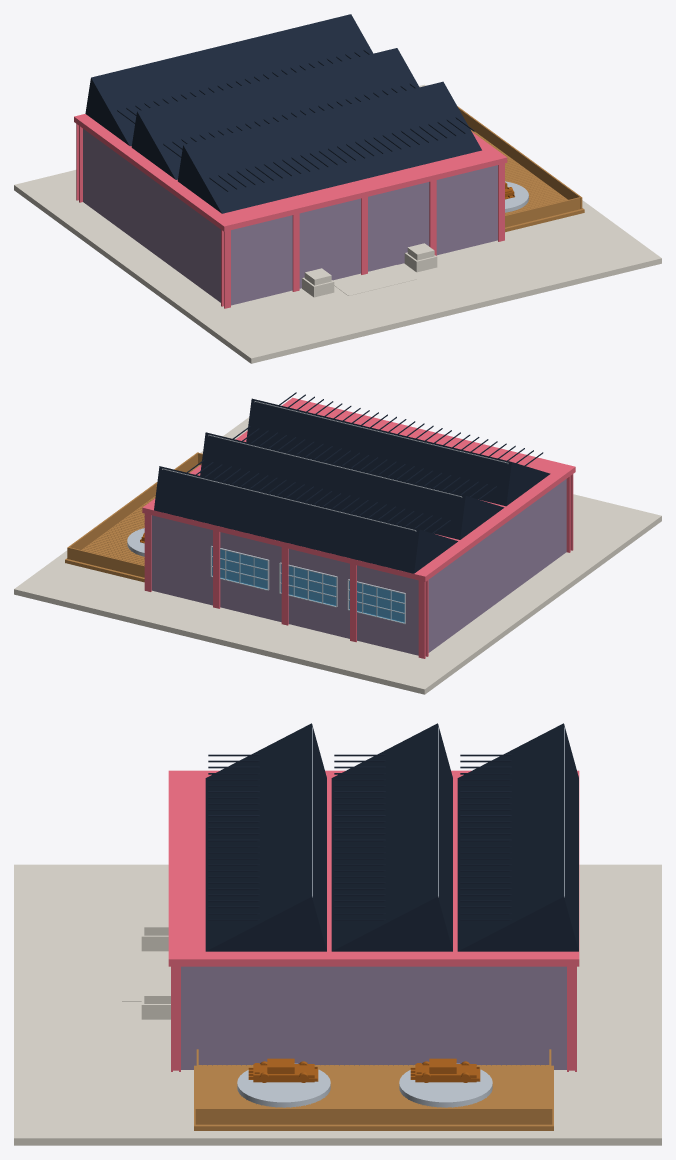
File: hq_04_design_l1.glb
3 views of the same model, one above another, from view 1: azimuth 30°, elevation 25°; view 2: azimuth 150°, elevation 25°; view 3: azimuth 270°, elevation 25° (orthographic). The views are drawn at different scales.
Visible parts, largest first — view 1: GEO_Sawtooth_Roof_Slopes, GEO_Plinth_Foundation, GEO_Design_Studio_Brick_Hall, GEO_Studio_Structural_IBeams, GEO_Outdoor_Review_Terrace_Deck, GEO_Studio_Entrance_Steps; view 2: GEO_Sawtooth_Roof_Slopes, GEO_Design_Studio_Brick_Hall, GEO_Plinth_Foundation, GEO_Studio_Structural_IBeams, GEO_Outdoor_Review_Terrace_Deck, GEO_Studio_Ribbon_Glass, GEO_Studio_Window_Frames, GEO_Sawtooth_Window_Mullions; view 3: GEO_Sawtooth_Roof_Slopes, GEO_Plinth_Foundation, GEO_Design_Studio_Brick_Hall, GEO_Studio_Structural_IBeams, GEO_Outdoor_Review_Terrace_Deck, GEO_Clay_Turntables_Pedestals, GEO_Studio_Entrance_Steps, GEO_1_to_4_Clay_Styling_Bucks.
Part boxes in pixels (x1,y1,x2,y2): GEO_Sawtooth_Roof_Slopes: [85, 14, 481, 213]; GEO_Plinth_Foundation: [14, 84, 661, 363]; GEO_Design_Studio_Brick_Hall: [83, 129, 497, 305]; GEO_Studio_Structural_IBeams: [74, 114, 507, 308]; GEO_Outdoor_Review_Terrace_Deck: [457, 106, 584, 232]; GEO_Studio_Entrance_Steps: [302, 243, 437, 297]; GEO_Sawtooth_Roof_Slopes: [154, 392, 550, 573]; GEO_Design_Studio_Brick_Hall: [151, 479, 566, 655]; GEO_Plinth_Foundation: [14, 417, 661, 694]; GEO_Studio_Structural_IBeams: [142, 397, 575, 658]; GEO_Outdoor_Review_Terrace_Deck: [65, 452, 202, 582]; GEO_Studio_Ribbon_Glass: [212, 547, 404, 622]; GEO_Studio_Window_Frames: [210, 546, 405, 624]; GEO_Sawtooth_Window_Mullions: [162, 401, 508, 531]; GEO_Sawtooth_Roof_Slopes: [205, 723, 578, 951]; GEO_Plinth_Foundation: [14, 864, 661, 1145]; GEO_Design_Studio_Brick_Hall: [181, 966, 566, 1069]; GEO_Studio_Structural_IBeams: [168, 770, 579, 1071]; GEO_Outdoor_Review_Terrace_Deck: [194, 1049, 553, 1130]; GEO_Clay_Turntables_Pedestals: [237, 1063, 492, 1107]; GEO_Studio_Entrance_Steps: [122, 916, 170, 1019]; GEO_1_to_4_Clay_Styling_Bucks: [248, 1058, 480, 1082].
Size of what is drawn, in the model's own units: 36 by 10.8 by 36.
